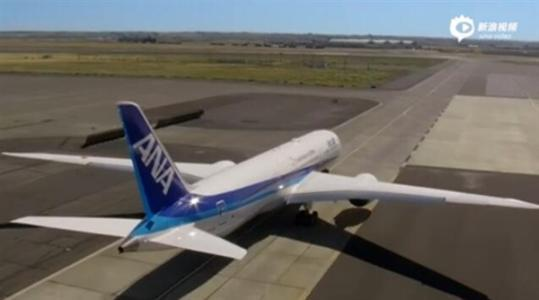airplane: (3, 100, 539, 262)
